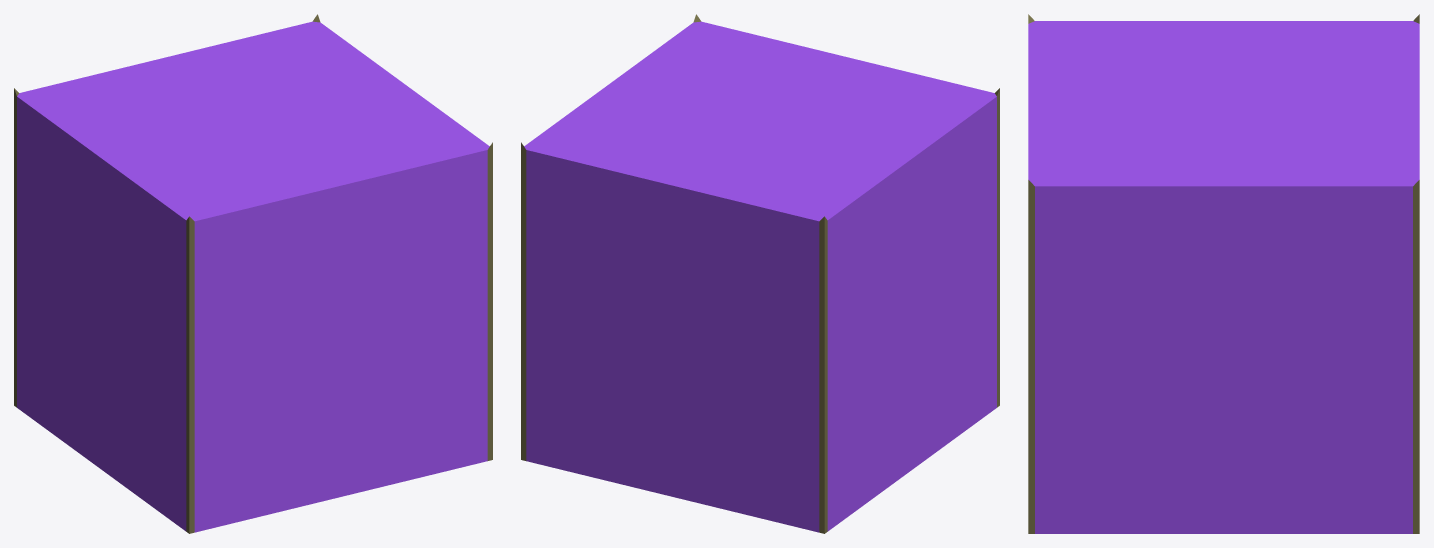
File: tile_toxic_deep_1_01.fbx
3 renders of one model, left to right at view 1: azimuth 30°, elevation 25°; view 2: azimuth 150°, elevation 25°; view 3: azimuth 270°, elevation 25°, orthographic. The views are drawn at different scales.
Parts seen in each view (by area): view 1: tile_toxic_deep_1_01; view 2: tile_toxic_deep_1_01; view 3: tile_toxic_deep_1_01.
Boxes of the visible parts, bbox=[...] form: tile_toxic_deep_1_01: bbox=[14, 14, 492, 533]; tile_toxic_deep_1_01: bbox=[521, 14, 999, 533]; tile_toxic_deep_1_01: bbox=[1028, 14, 1419, 533].
Size of the model in its own units: 100 by 100 by 100.
